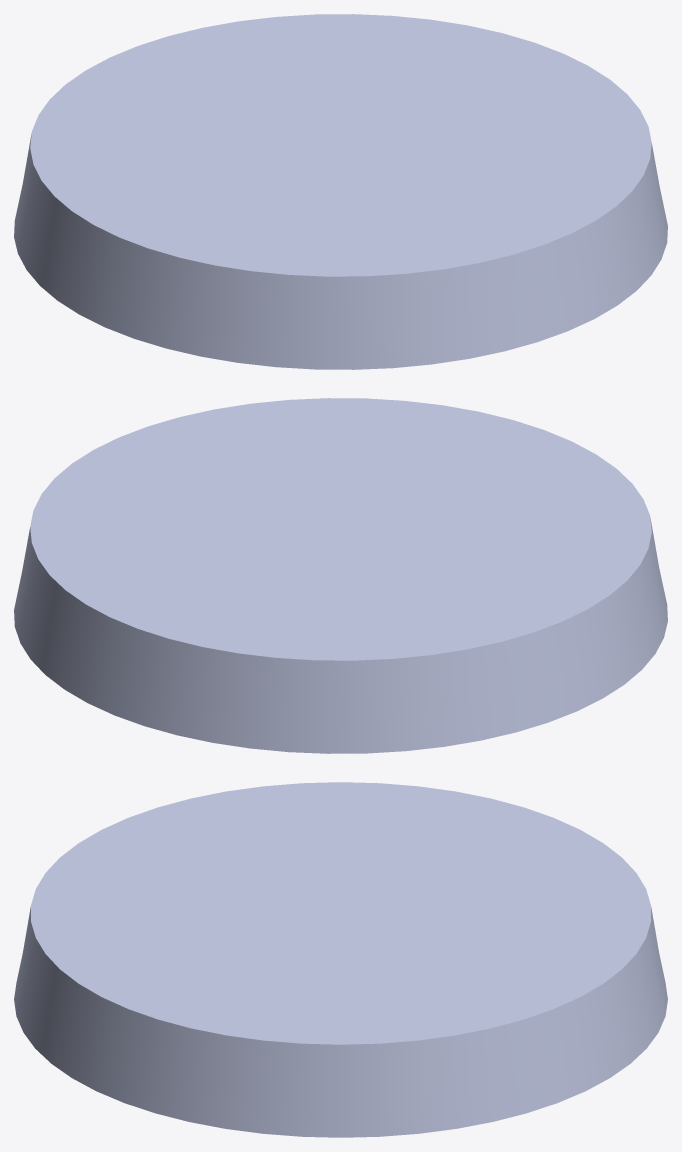
File: 100_tapa_corcho.glb
The picture shows the model from 3 angles, top to bottom: view 1: azimuth 30°, elevation 25°; view 2: azimuth 150°, elevation 25°; view 3: azimuth 270°, elevation 25°; orthographic projection.
Visible parts, largest first — view 1: TAPA CORCHO 100; view 2: TAPA CORCHO 100; view 3: TAPA CORCHO 100.
Part boxes in pixels (x1,y1,x2,y2): TAPA CORCHO 100: (14, 14, 667, 369); TAPA CORCHO 100: (14, 398, 667, 753); TAPA CORCHO 100: (14, 782, 667, 1137).
Bounding box in the file's own units: 0.1032 × 0.015 × 0.1032.
